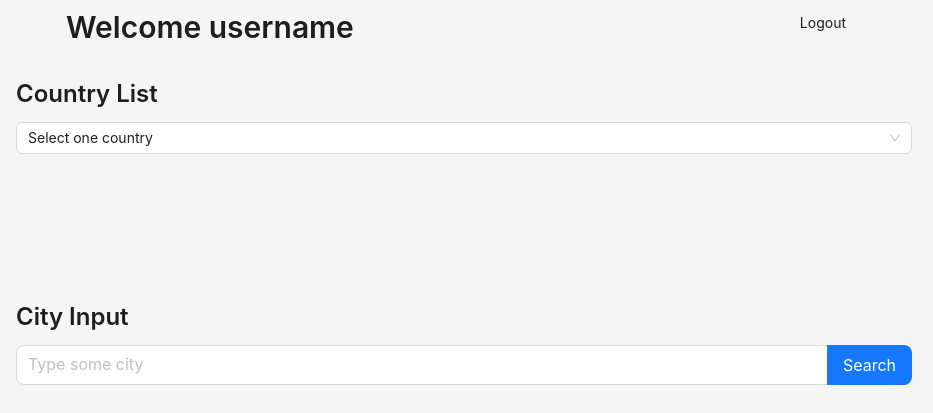
Home › should render error message if user does not type any country or city
Click the button "Search": (869, 365) [827,345,912,385]
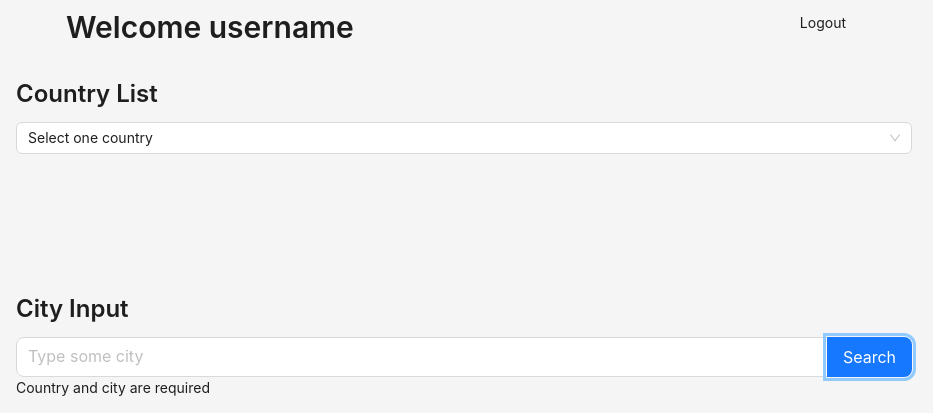
Result: the text "Country and city are required" is shown at [16,379,210,396]
